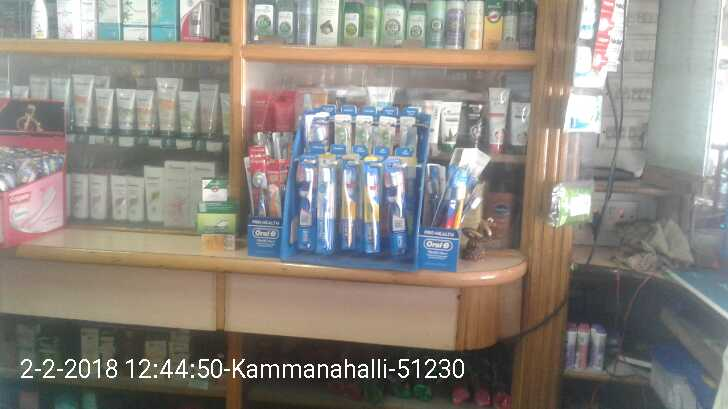oralb: (380, 162, 410, 260), (334, 157, 362, 252), (358, 157, 382, 253), (299, 154, 319, 253), (320, 156, 338, 254)
